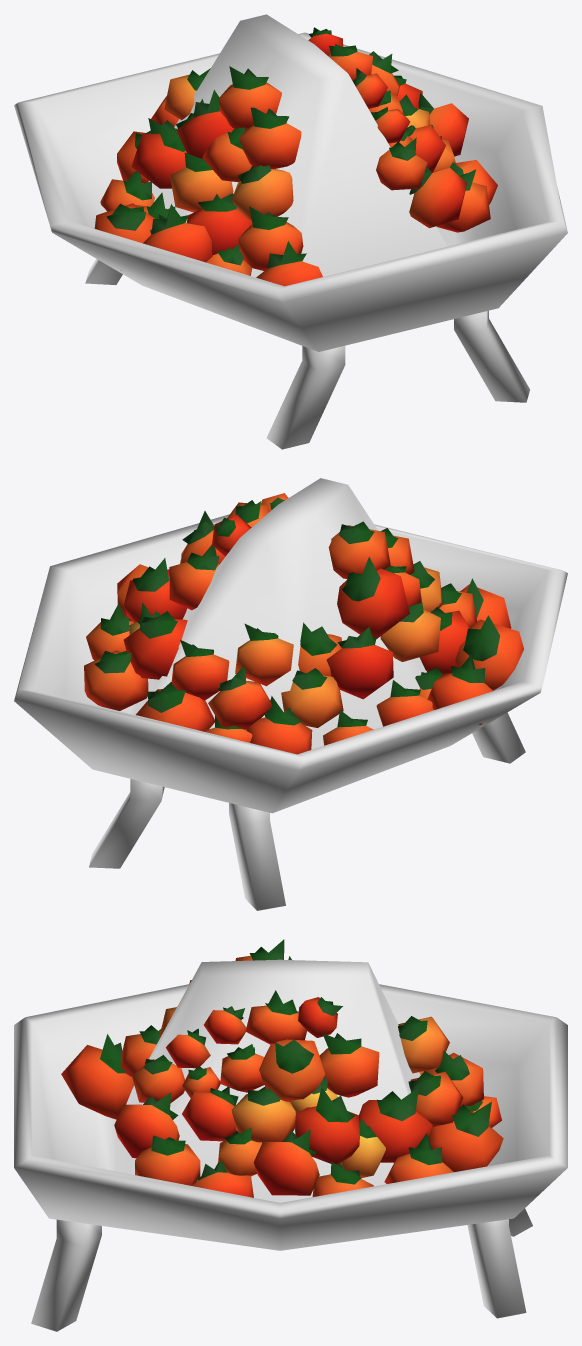
File: fruit_stand.glb
The picture shows the model from 3 angles, top to bottom: view 1: azimuth 30°, elevation 25°; view 2: azimuth 150°, elevation 25°; view 3: azimuth 270°, elevation 25°; orthographic projection. The views are drawn at different scales.
Parts seen in each view (by area): view 1: fruit_stand-col, stand_tomatoes; view 2: fruit_stand-col, stand_tomatoes; view 3: fruit_stand-col, stand_tomatoes.
Part boxes in pixels (x1,y1,x2,y2): fruit_stand-col: (14, 14, 567, 449); stand_tomatoes: (94, 27, 497, 286); fruit_stand-col: (14, 478, 567, 910); stand_tomatoes: (84, 493, 523, 754); fruit_stand-col: (14, 959, 567, 1331); stand_tomatoes: (61, 939, 503, 1197).
Bounding box in the file's own units: 1.8 × 1.02 × 1.7.
Materials: 1 (1 with a texture image).
